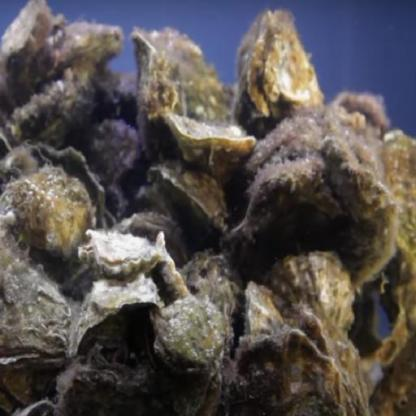3: (2, 146, 113, 237), (81, 228, 160, 277)
Oyster-Closed: (218, 155, 342, 285), (135, 28, 227, 167), (317, 141, 395, 292), (240, 7, 321, 134), (0, 241, 74, 373), (72, 277, 162, 349), (171, 111, 255, 187), (160, 165, 229, 239), (69, 119, 142, 182), (112, 216, 191, 269), (52, 20, 125, 77), (3, 5, 55, 67), (242, 283, 281, 356), (155, 235, 190, 305)
Oyster-Open: (265, 262, 361, 349), (285, 312, 362, 416), (153, 292, 227, 372), (16, 171, 90, 248), (382, 129, 416, 281), (184, 248, 243, 330)
